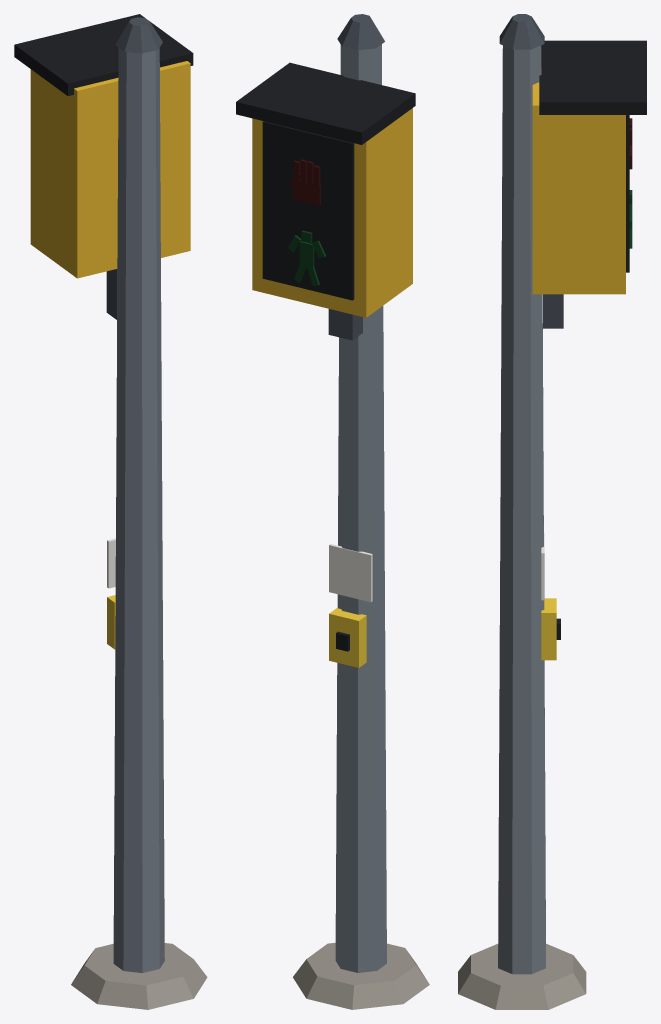
Rendered from traffic_light_ped.glb.
The picture shows the model from 3 angles, left to right: view 1: azimuth 30°, elevation 25°; view 2: azimuth 150°, elevation 25°; view 3: azimuth 270°, elevation 25°; orthographic projection.
Parts seen in each view (by area): view 1: Body; view 2: Body, SignalRed, SignalGreen; view 3: Body.
Part boxes in pixels (x1,y1,x2,y2): Body: (14,14,207,1009); Body: (236,14,429,1009); SignalRed: (289,159,320,205); SignalGreen: (288,230,325,286); Body: (458,14,646,1009).
Bounding box in the file's own units: 0.42 × 3.07 × 0.5448.
